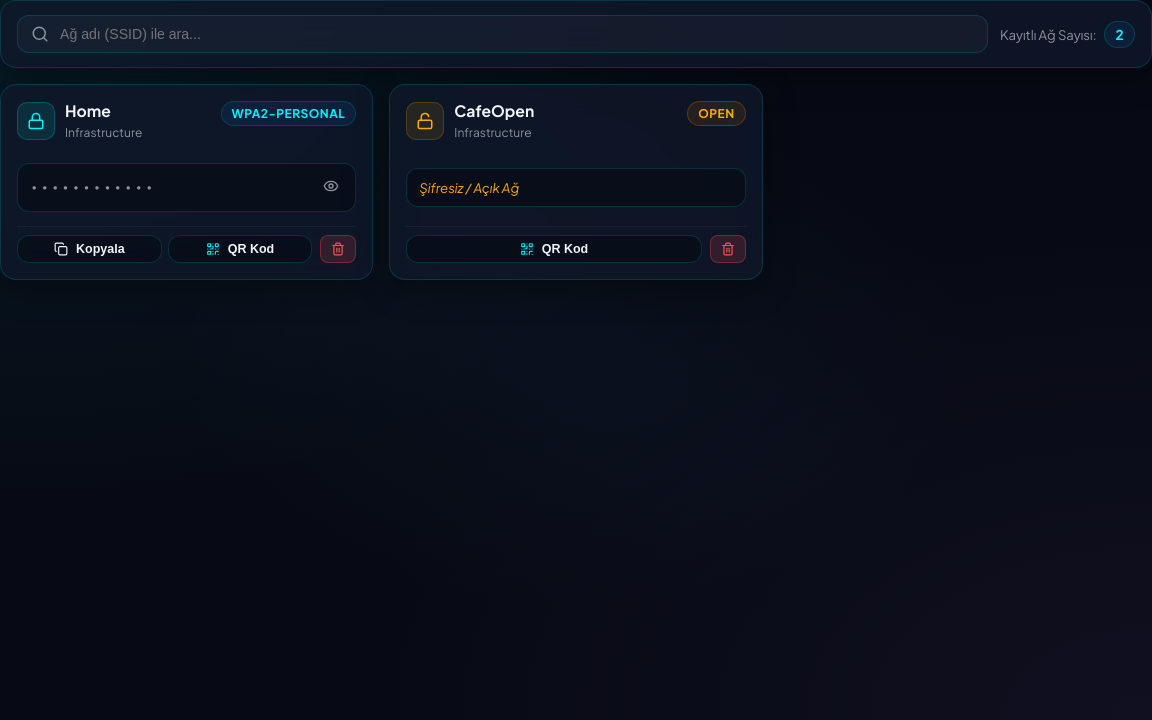
Test case: PasswordsTab › filters the profile list by SSID search term
Type "Home" into the field with placeholder "Ağ adı (SSID) ile ara..." at coordinates (502, 34), box [17,15,988,53]
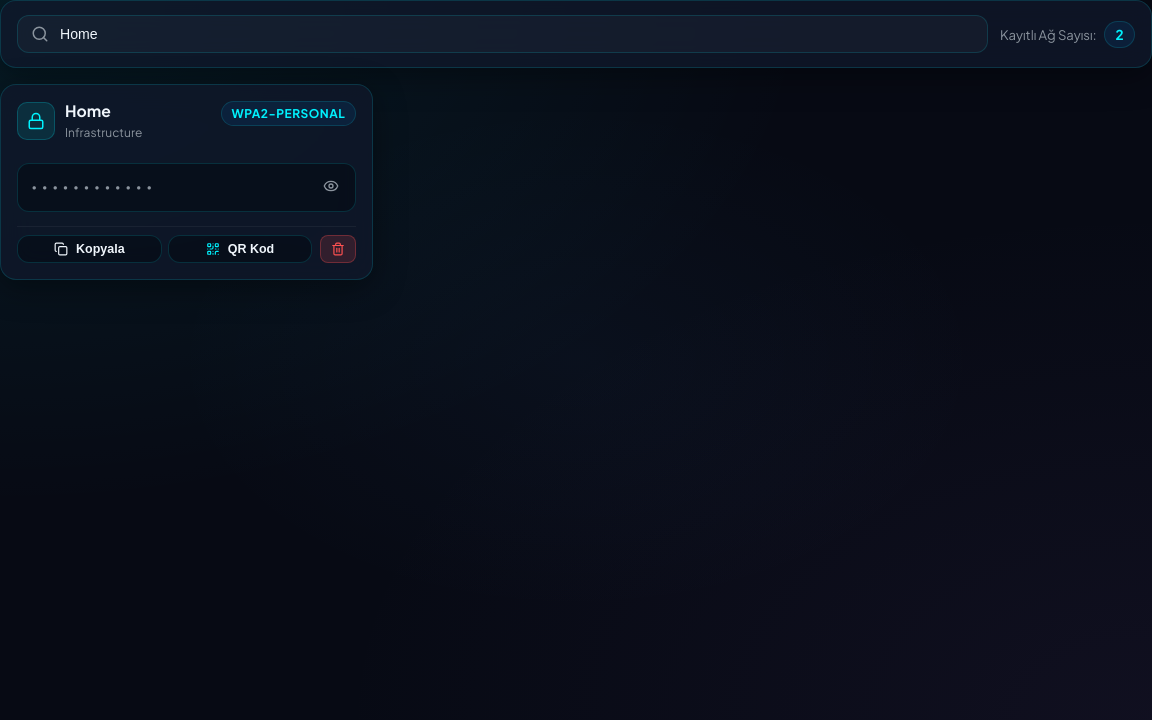
expect the heading "Home" is shown: met, box [65,101,111,120]
expect the heading "CafeOpen" is gone: met
